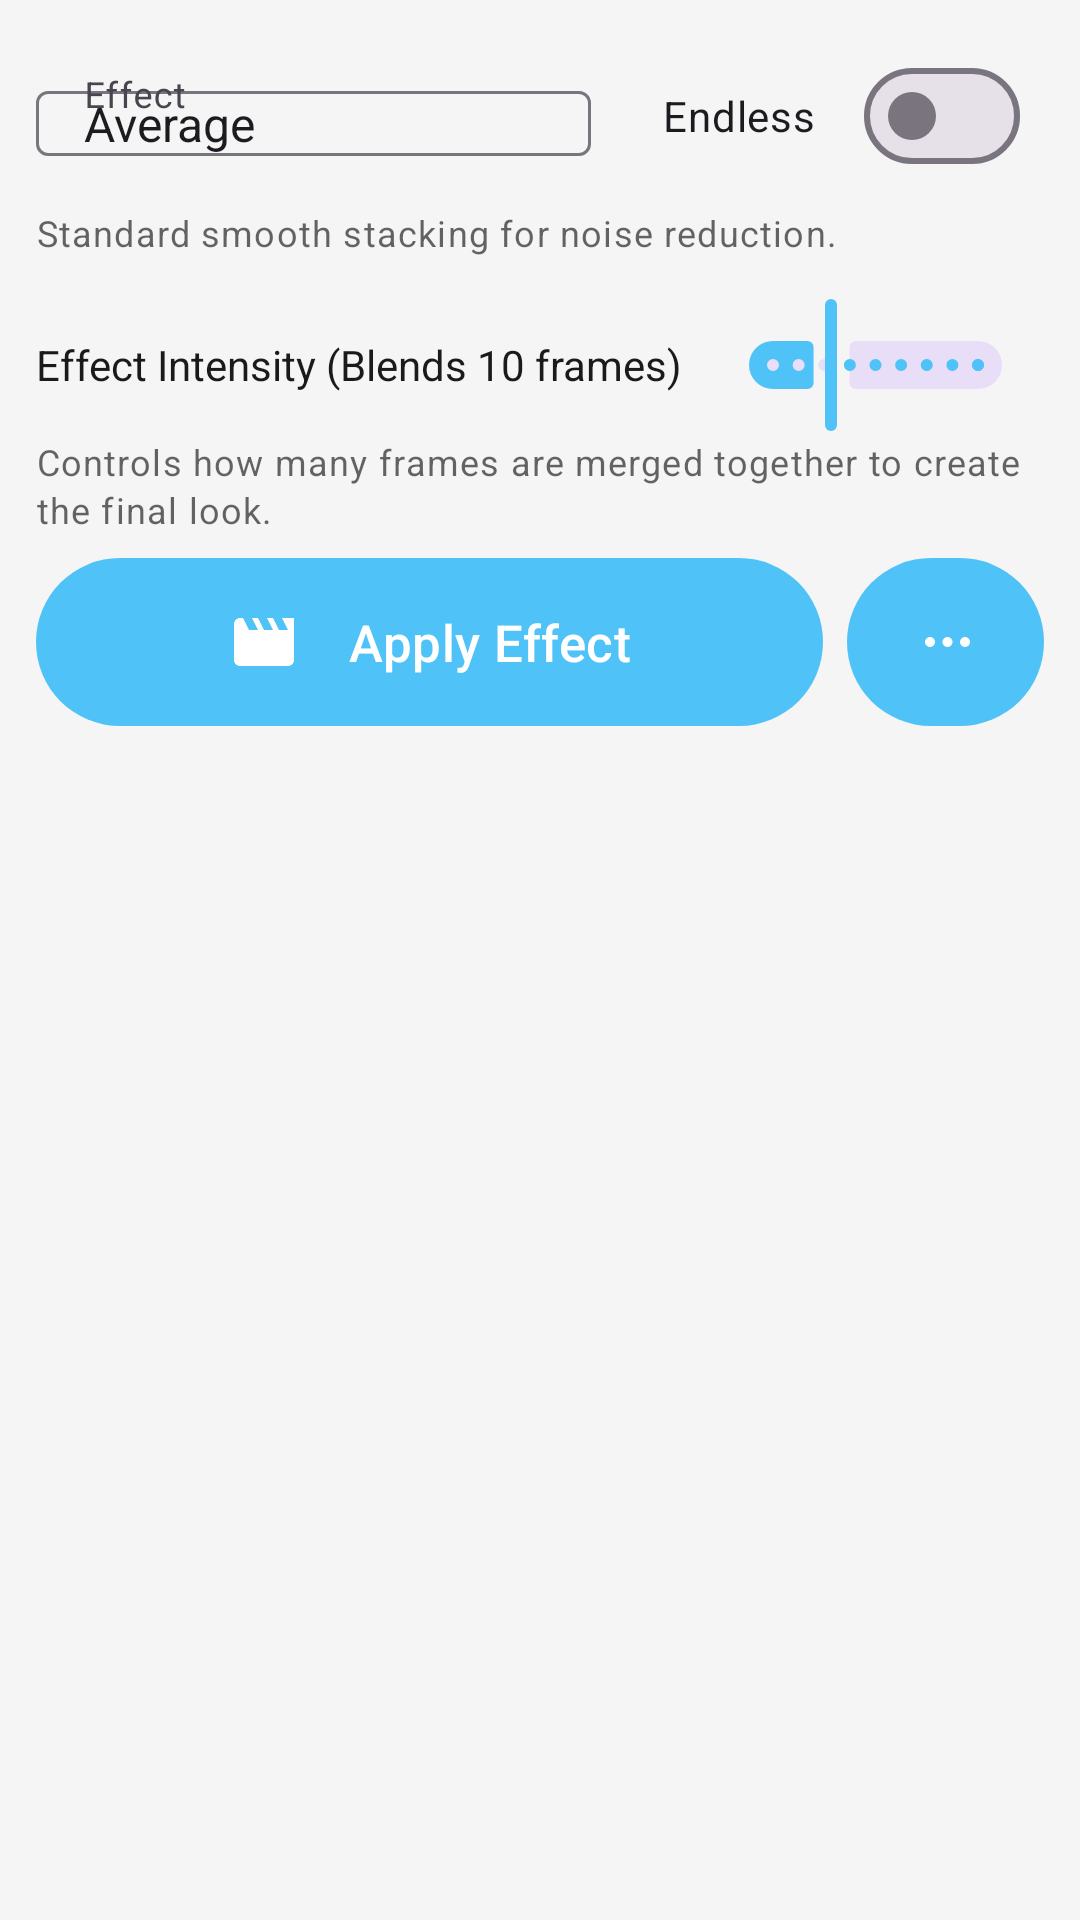

Icons on this 1080 x 1920 Android screen, each with the point to tap as (x=x, y=y):
Generate options: (x=945, y=642)
